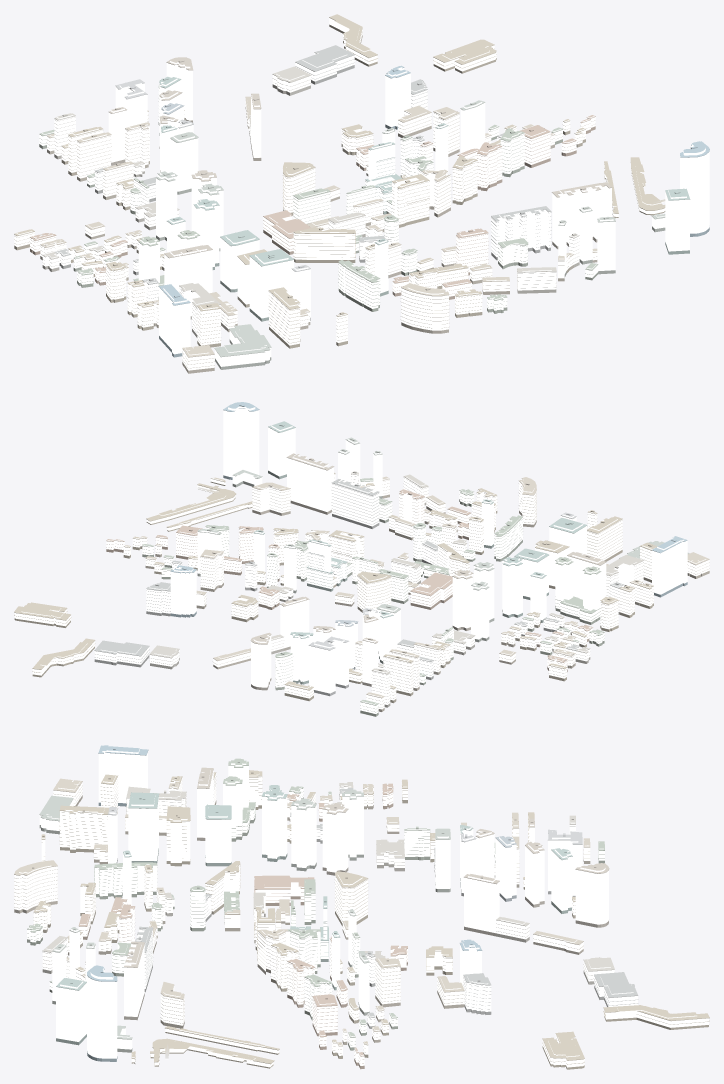
Rendered from buildings--10_-1-fine.glb.
3 views of the same model, one above another, from view 1: azimuth 30°, elevation 25°; view 2: azimuth 150°, elevation 25°; view 3: azimuth 270°, elevation 25° (orthographic). The views are drawn at different scales.
Visible parts, largest first — view 1: block_-10_-1_residential, block_-10_-1_office, block_-10_-1_roof, block_-10_-1_darkglass, block_-10_-1_concrete, block_-10_-1_steel; view 2: block_-10_-1_residential, block_-10_-1_office, block_-10_-1_roof, block_-10_-1_darkglass, block_-10_-1_concrete, block_-10_-1_steel; view 3: block_-10_-1_office, block_-10_-1_residential, block_-10_-1_roof, block_-10_-1_darkglass, block_-10_-1_concrete, block_-10_-1_steel.
Part boxes in pixels (x1=…): block_-10_-1_residential: x1=14, y1=18, x2=665, y2=370; block_-10_-1_office: x1=108, y1=61, x2=709, y2=366; block_-10_-1_roof: x1=14, y1=14, x2=709, y2=368; block_-10_-1_darkglass: x1=14, y1=24, x2=709, y2=373; block_-10_-1_concrete: x1=14, y1=17, x2=664, y2=368; block_-10_-1_steel: x1=109, y1=62, x2=709, y2=357; block_-10_-1_residential: x1=14, y1=472, x2=709, y2=713; block_-10_-1_office: x1=170, y1=406, x2=687, y2=693; block_-10_-1_roof: x1=14, y1=402, x2=709, y2=708; block_-10_-1_darkglass: x1=14, y1=470, x2=709, y2=716; block_-10_-1_concrete: x1=14, y1=473, x2=709, y2=712; block_-10_-1_steel: x1=170, y1=408, x2=687, y2=650; block_-10_-1_office: x1=39, y1=749, x2=608, y2=1058; block_-10_-1_residential: x1=14, y1=771, x2=708, y2=1067; block_-10_-1_roof: x1=14, y1=745, x2=709, y2=1067; block_-10_-1_darkglass: x1=14, y1=794, x2=708, y2=1069; block_-10_-1_concrete: x1=14, y1=775, x2=709, y2=1064; block_-10_-1_steel: x1=39, y1=750, x2=608, y2=1039.
Size of the model in its own units: 650 by 92.27 by 694.
